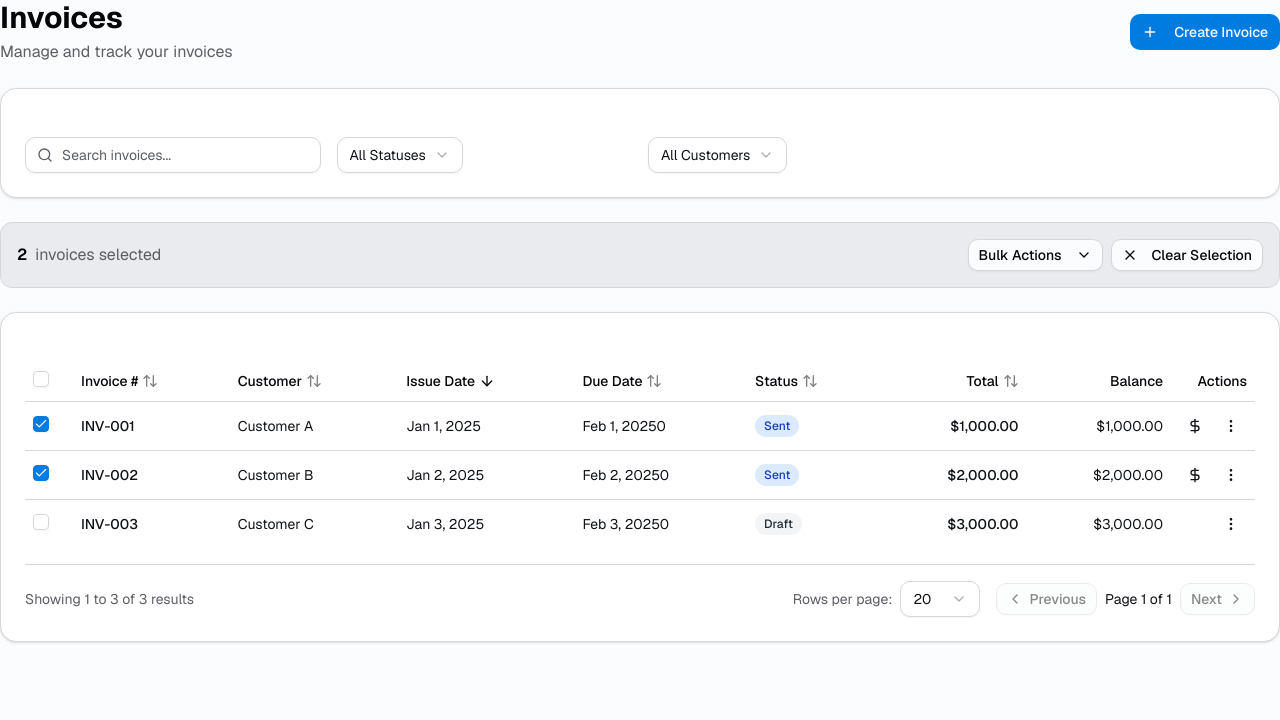
Bulk PDF Export › Confirmation Modal › should close confirmation modal when Cancel clicked
The image size is (1280, 720).
Click the button "Bulk Actions" at point(1035, 255), box [968,239,1102,271]
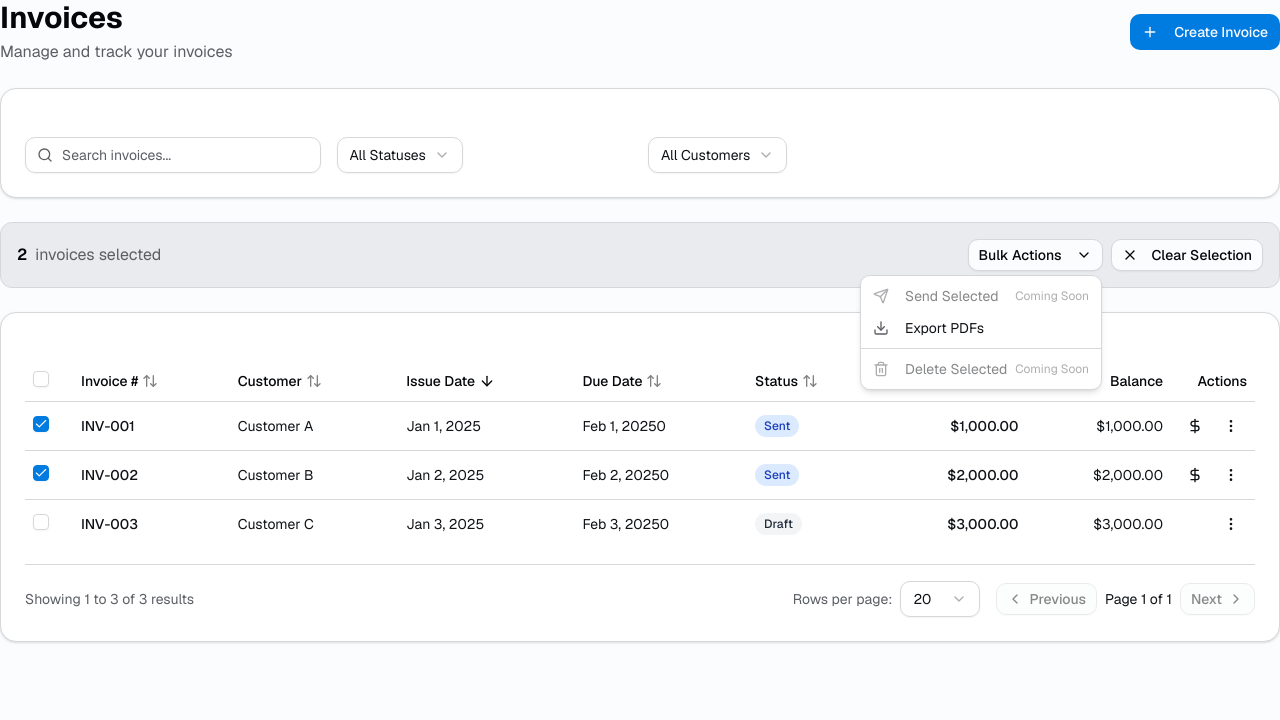
Click the menu item "Export PDFs" at point(929, 328), box [873,319,984,337]
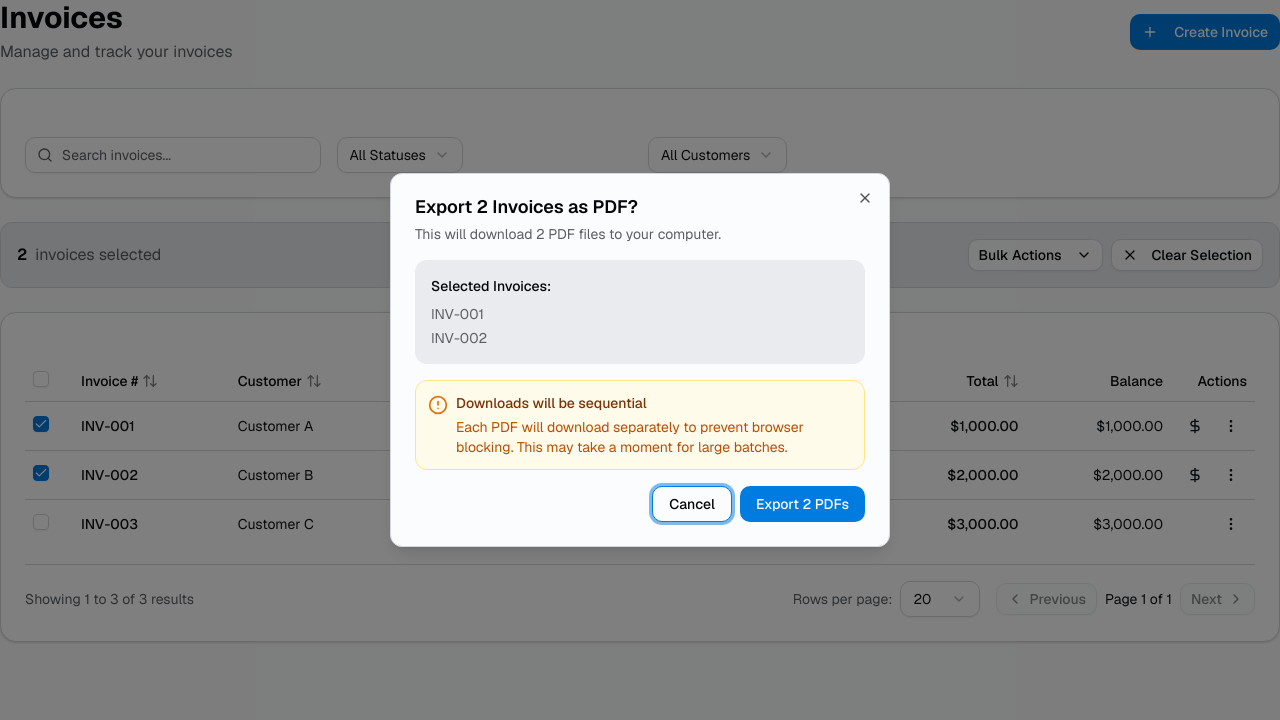
Click the button "Cancel" at point(692, 504), box [652,486,732,522]
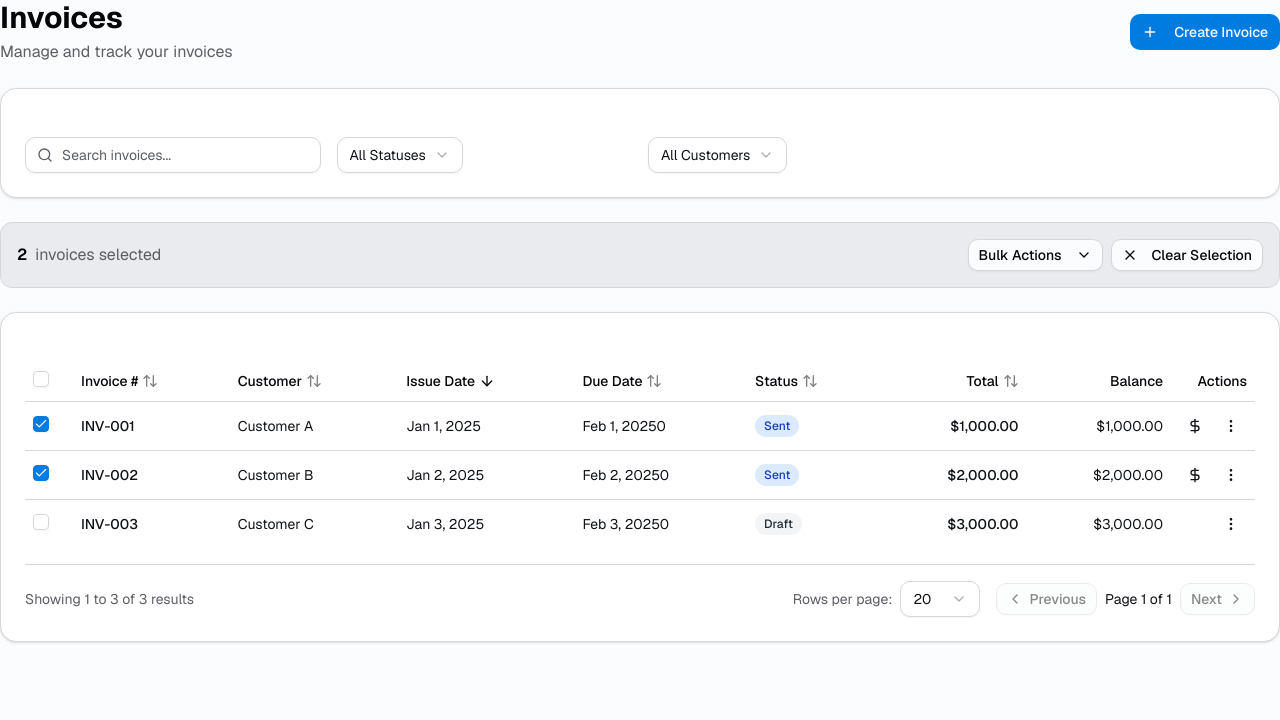
Expected: the heading "Export 2 Invoices as PDF" is gone
